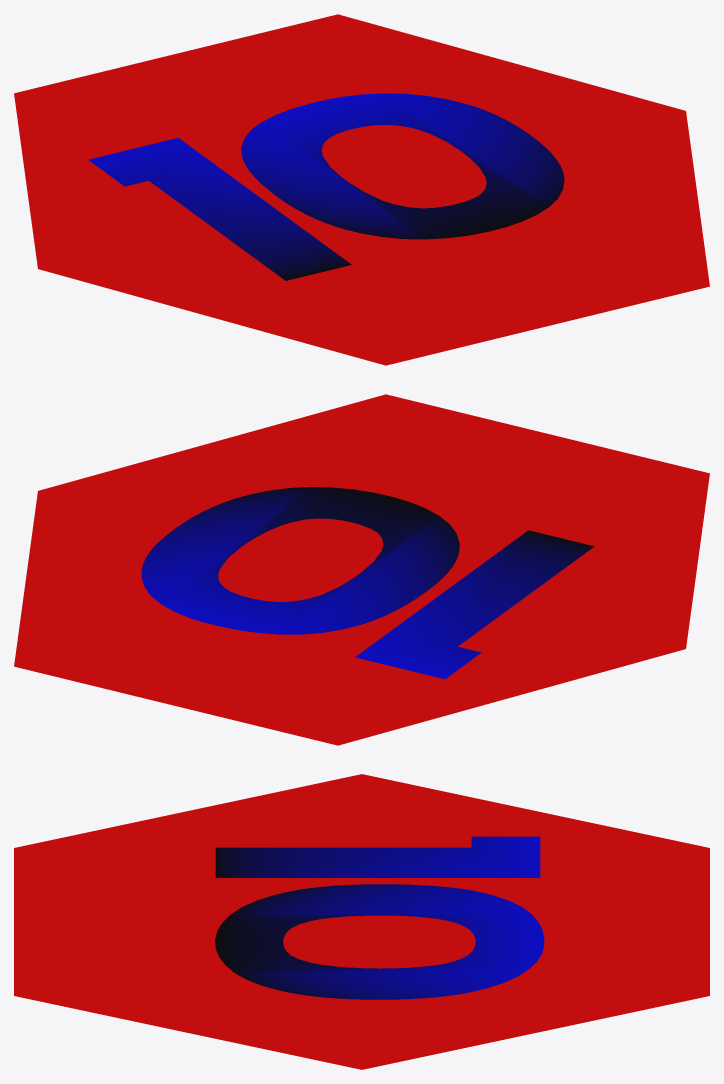
The model's file is SM_Number_10.fbx.
3 views of the same model, one above another, from view 1: azimuth 30°, elevation 25°; view 2: azimuth 150°, elevation 25°; view 3: azimuth 270°, elevation 25° (orthographic). The views are drawn at different scales.
Visible parts, largest first — view 1: FBX_OUT; view 2: FBX_OUT; view 3: FBX_OUT.
Boxes of the visible parts, x1=… form: FBX_OUT: x1=14, y1=14, x2=709, y2=365; FBX_OUT: x1=14, y1=394, x2=709, y2=745; FBX_OUT: x1=14, y1=774, x2=709, y2=1069.
Size of the model in its own units: 50 by 0.2917 by 49.71.
